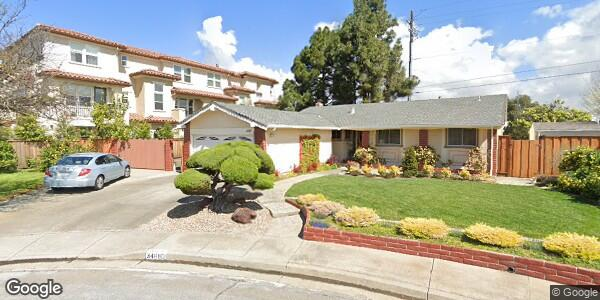Wood_Pole: (404, 8, 419, 103)
